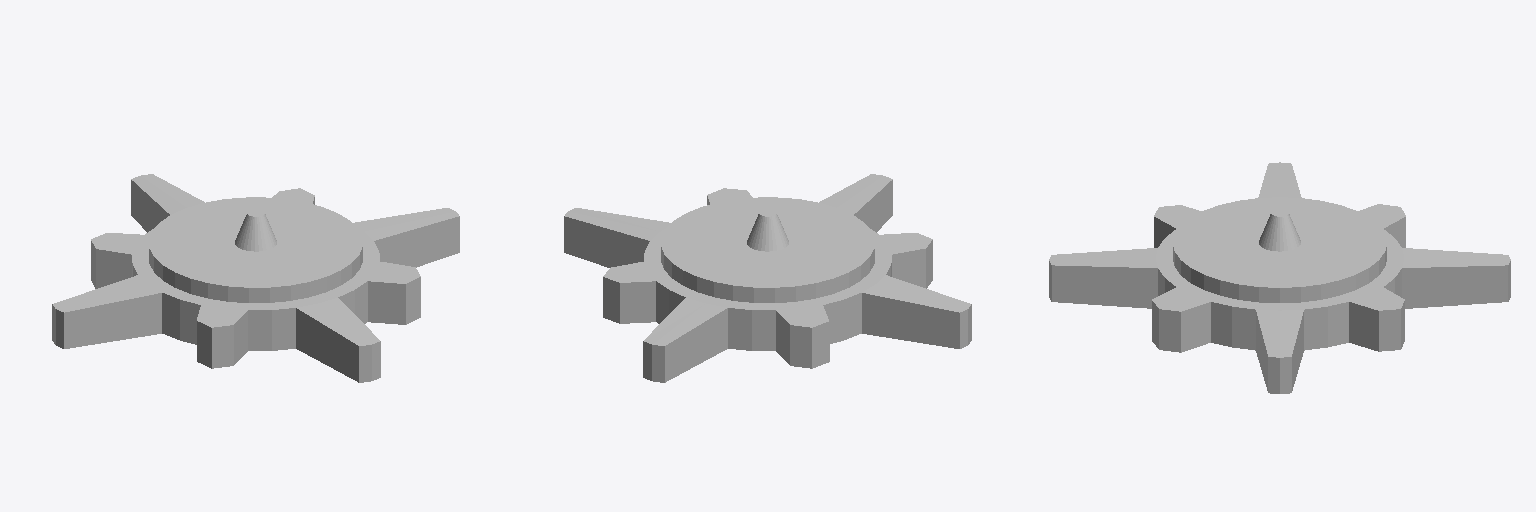
File: rolling.obj
3 views of the same model, side by side, from view 1: azimuth 30°, elevation 25°; view 2: azimuth 150°, elevation 25°; view 3: azimuth 270°, elevation 25° (orthographic).
Parts seen in each view (by area): view 1: Cylinder; view 2: Cylinder; view 3: Cylinder.
Part boxes in pixels (x1,y1,x2,y2): Cylinder: (52,174,459,382); Cylinder: (564,174,971,382); Cylinder: (1049,162,1510,393).
Bounding box in the file's own units: 3.72 × 0.762 × 3.72.